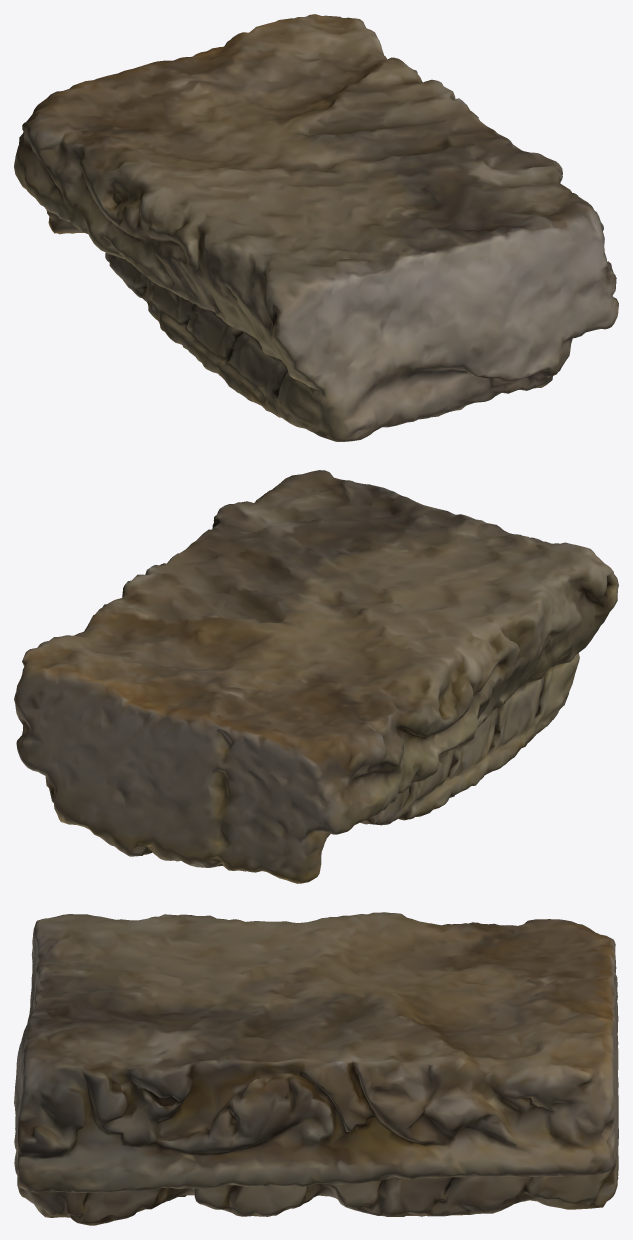
The model's file is Pilastre_QuadricEdgeDecimationX3+preserve.obj.
3 views of the same model, one above another, from view 1: azimuth 30°, elevation 25°; view 2: azimuth 150°, elevation 25°; view 3: azimuth 270°, elevation 25° (orthographic). The views are drawn at different scales.
Size of the model in its own units: 7.26 by 3.73 by 10.38.
